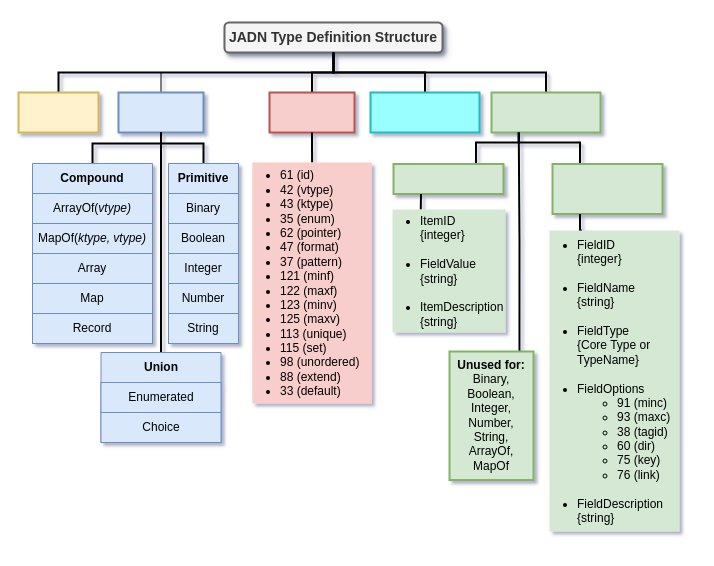
Image size: 714x566. Some labels were removed from this diagram. Each missing label, with the centre of its shape:
BaseType Choice: point 160,112
Fields Array: point 545,112
For: Array, Choice, Map, or Record: point 607,188
For: Enumerated: point 448,178
TypeDescription String: point 424,112
TypeName String: point 58,112
TypeOptions Array {0..n}: point 311,112
